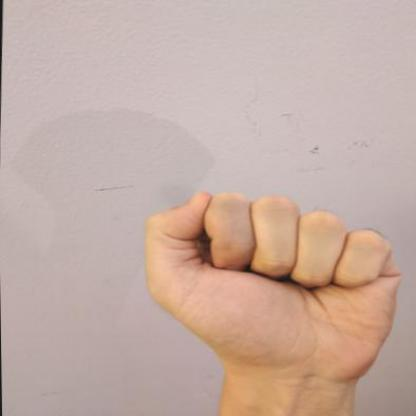A: (132, 184, 410, 386)
